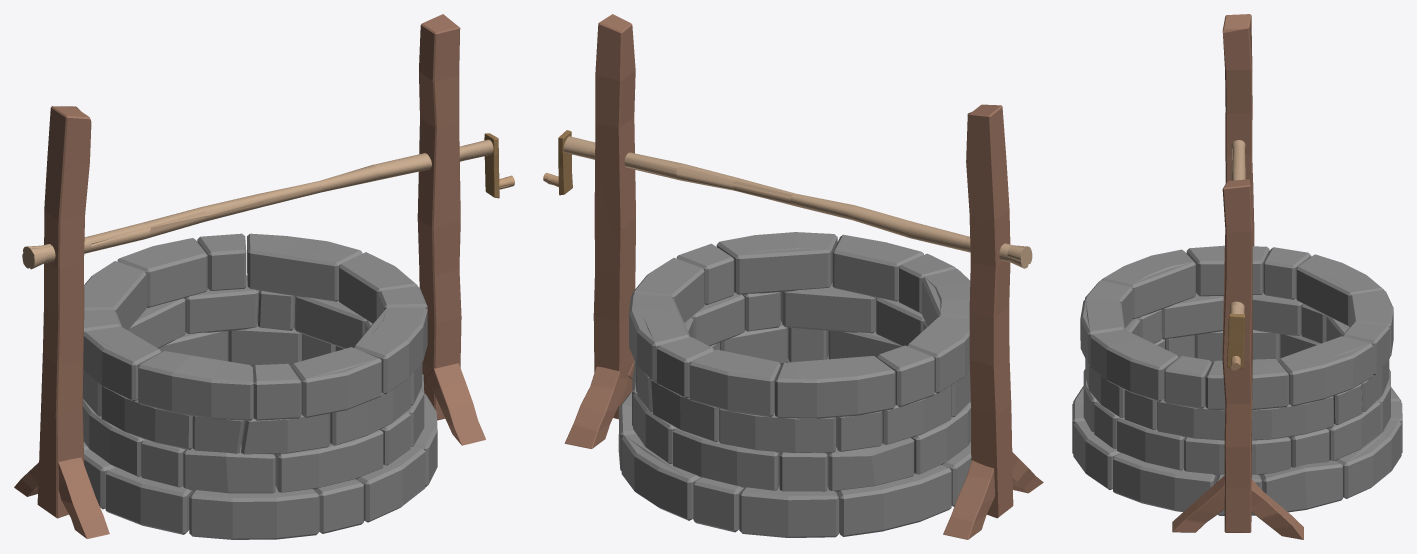
Rendered from well.fbx.
3 renders of one model, left to right at view 1: azimuth 30°, elevation 25°; view 2: azimuth 150°, elevation 25°; view 3: azimuth 270°, elevation 25°, orthographic. The views are drawn at different scales.
Parts seen in each view (by area): view 1: Well, Handle; view 2: Well, Handle; view 3: Well, Handle.
Part boxes in pixels (x1,y1,x2,y2): Well: (14, 14, 485, 539); Handle: (22, 133, 514, 269); Well: (564, 14, 1043, 539); Handle: (543, 130, 1032, 268); Well: (1072, 14, 1402, 539); Handle: (1227, 140, 1245, 370).
Size of the model in its own units: 2416 by 1923 by 1617.
